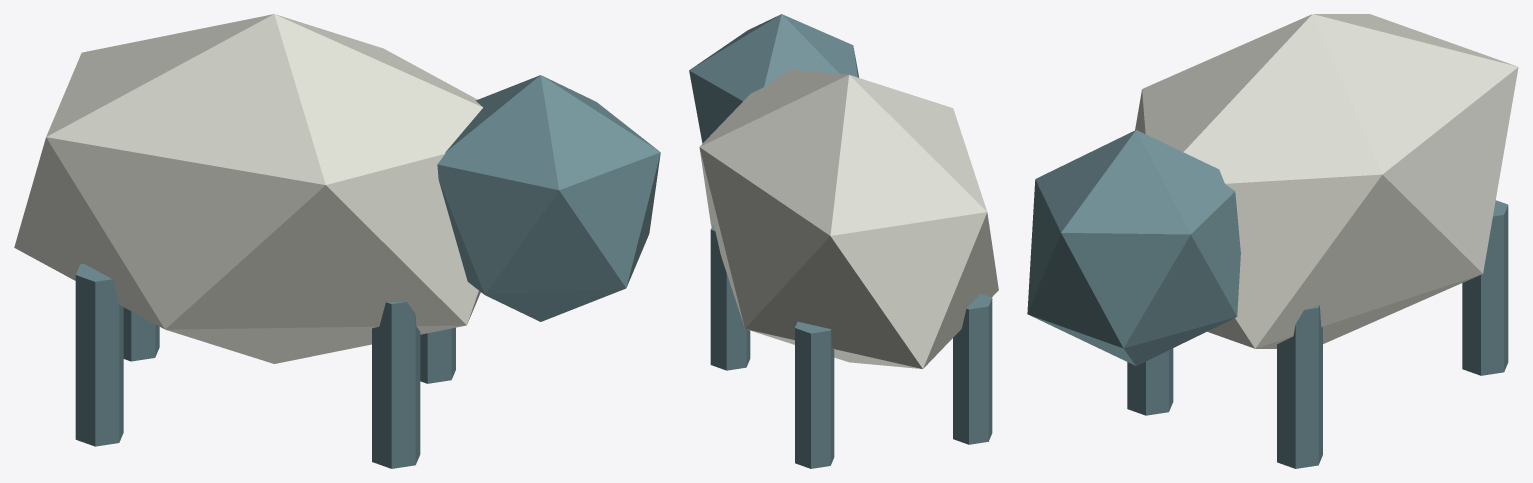
The model's file is sheep_03.glb.
The picture shows the model from 3 angles, left to right: view 1: azimuth 30°, elevation 25°; view 2: azimuth 150°, elevation 25°; view 3: azimuth 270°, elevation 25°; orthographic projection. The views are drawn at different scales.
Visible parts, largest first — view 1: Sheep_03_Body.001, Sheep_03_Head.001, Sheep_03_Leg_0.001, Sheep_03_Leg_2.001, Sheep_03_Leg_3.001, Sheep_03_Leg_1.001; view 2: Sheep_03_Body.001, Sheep_03_Head.001, Sheep_03_Leg_1.001, Sheep_03_Leg_0.001, Sheep_03_Leg_3.001; view 3: Sheep_03_Body.001, Sheep_03_Head.001, Sheep_03_Leg_3.001, Sheep_03_Leg_1.001, Sheep_03_Leg_2.001.
Boxes of the visible parts, left/top/right/bottom form: Sheep_03_Body.001: left=14, top=14, right=482, bottom=363; Sheep_03_Head.001: left=437, top=75, right=660, bottom=321; Sheep_03_Leg_0.001: left=75, top=263, right=123, bottom=446; Sheep_03_Leg_2.001: left=372, top=302, right=420, bottom=468; Sheep_03_Leg_3.001: left=420, top=327, right=455, bottom=383; Sheep_03_Leg_1.001: left=123, top=307, right=159, bottom=361; Sheep_03_Body.001: left=699, top=69, right=998, bottom=368; Sheep_03_Head.001: left=689, top=14, right=859, bottom=143; Sheep_03_Leg_1.001: left=795, top=321, right=834, bottom=468; Sheep_03_Leg_0.001: left=953, top=294, right=992, bottom=444; Sheep_03_Leg_3.001: left=710, top=224, right=750, bottom=370; Sheep_03_Body.001: left=1135, top=14, right=1518, bottom=348; Sheep_03_Head.001: left=1027, top=130, right=1240, bottom=365; Sheep_03_Leg_3.001: left=1277, top=305, right=1322, bottom=468; Sheep_03_Leg_1.001: left=1462, top=200, right=1508, bottom=375; Sheep_03_Leg_2.001: left=1127, top=348, right=1173, bottom=415.
Bounding box in the file's own units: 0.9645 × 0.76 × 0.904.
